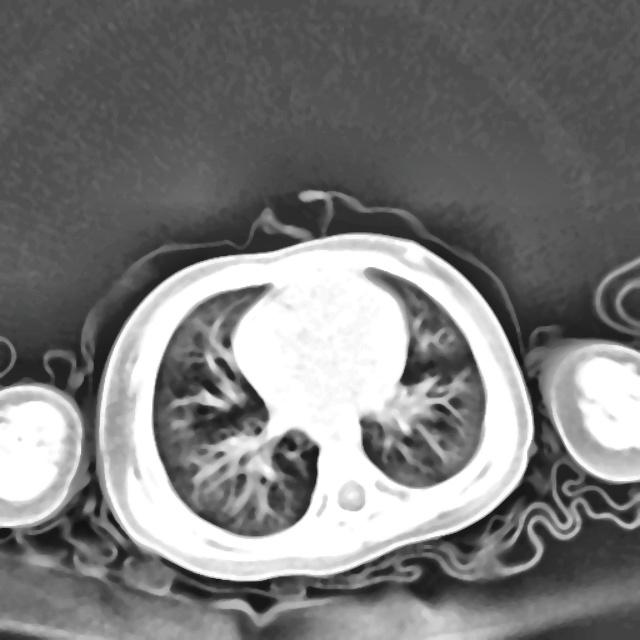covid: (93, 227, 536, 582)
